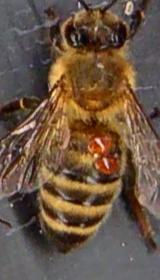varroa_mite: (96, 150, 130, 178), (92, 128, 123, 156)
